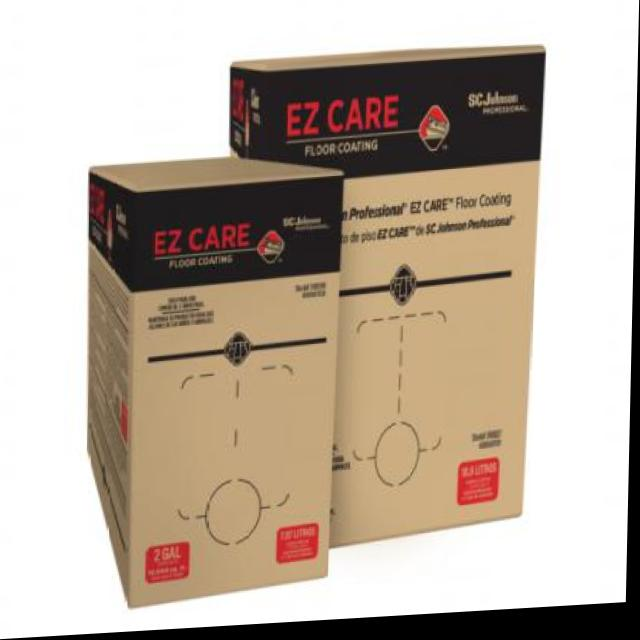box: (217, 40, 546, 556), (67, 134, 379, 636)
